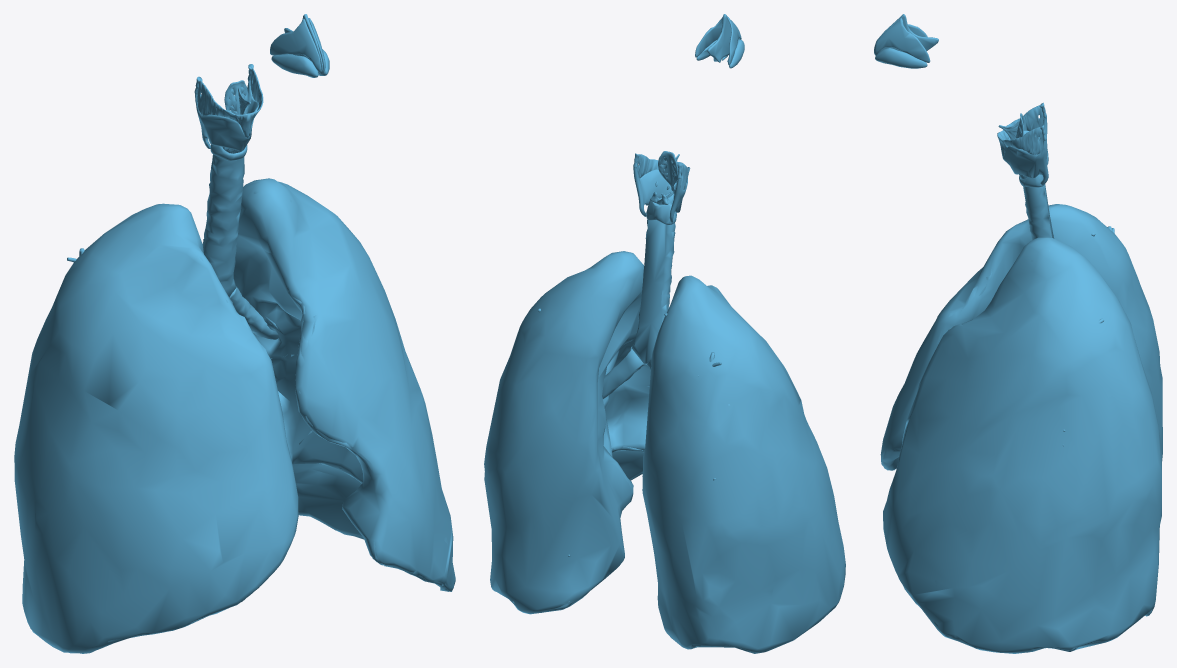
Rendered from respiratory.glb.
3 renders of one model, left to right at view 1: azimuth 30°, elevation 25°; view 2: azimuth 150°, elevation 25°; view 3: azimuth 270°, elevation 25°, orthographic. The views are drawn at different scales.
Visible parts, largest first — view 1: SOMA_visceral_pleura_R, SOMA_visceral_pleura_L, FJ2541, FJ2808, FJ2558, FJ2450, R3_FMA7370, FJ2554, FJ2804; view 2: SOMA_visceral_pleura_R, SOMA_visceral_pleura_L, FJ2541, FJ2808, FJ2450, FJ2557, FJ2770; view 3: SOMA_visceral_pleura_L, SOMA_visceral_pleura_R, FJ2808, FJ2541, FJ2556, FJ2555, FJ2786, FJ2804, R3_FMA7371.
Boxes of the visible parts, bbox=[...] form: SOMA_visceral_pleura_R: bbox=[14, 203, 298, 653]; SOMA_visceral_pleura_L: bbox=[233, 178, 455, 591]; FJ2541: bbox=[202, 154, 244, 297]; FJ2808: bbox=[195, 80, 258, 151]; FJ2558: bbox=[270, 18, 321, 73]; FJ2450: bbox=[229, 286, 279, 339]; R3_FMA7370: bbox=[253, 182, 384, 565]; FJ2554: bbox=[271, 54, 318, 77]; FJ2804: bbox=[195, 79, 238, 122]; SOMA_visceral_pleura_R: bbox=[642, 275, 845, 652]; SOMA_visceral_pleura_L: bbox=[484, 251, 668, 613]; FJ2541: bbox=[631, 219, 675, 364]; FJ2808: bbox=[633, 167, 687, 222]; FJ2450: bbox=[602, 346, 645, 398]; FJ2557: bbox=[707, 14, 739, 62]; FJ2770: bbox=[658, 151, 677, 185]; SOMA_visceral_pleura_L: bbox=[883, 237, 1161, 652]; SOMA_visceral_pleura_R: bbox=[880, 204, 1162, 470]; FJ2808: bbox=[1002, 117, 1048, 185]; FJ2541: bbox=[1023, 184, 1054, 240]; FJ2556: bbox=[874, 18, 930, 62]; FJ2555: bbox=[875, 48, 927, 68]; FJ2786: bbox=[1003, 126, 1045, 154]; FJ2804: bbox=[1003, 104, 1043, 139]; R3_FMA7371: bbox=[903, 579, 1152, 653].
Size of the model in its own units: 0.2543 by 0.416 by 0.1934.
